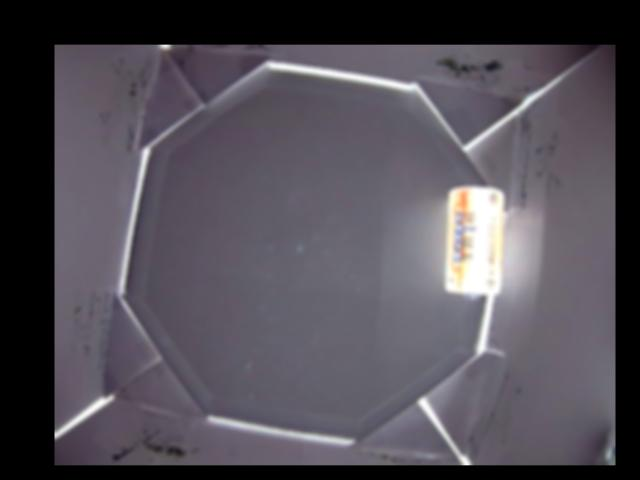Battery: (447, 185, 502, 302)
